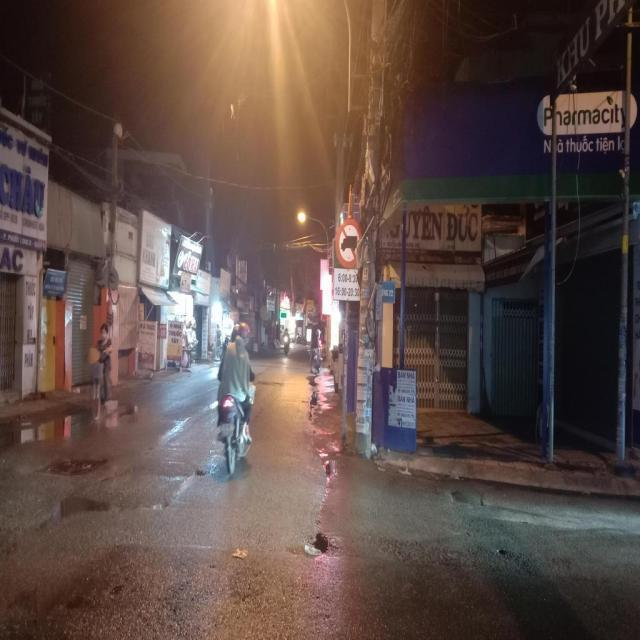106-cam-oto-tai: (335, 216, 363, 268)
